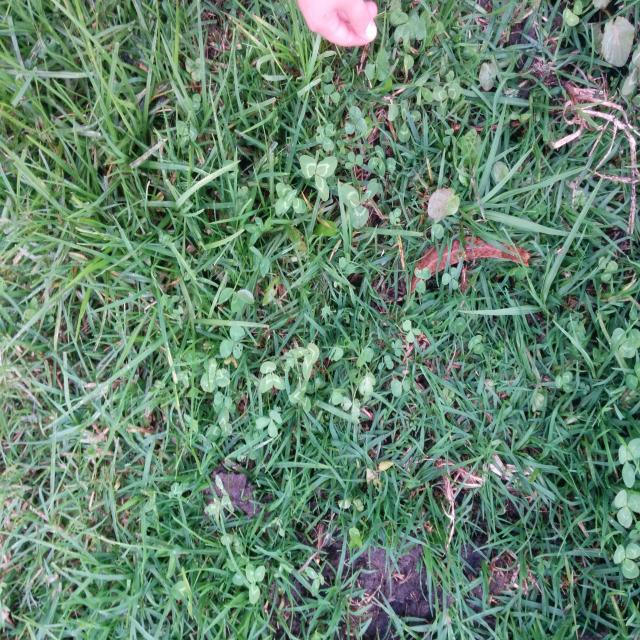Four Leaf Clover: (275, 182, 306, 215)
